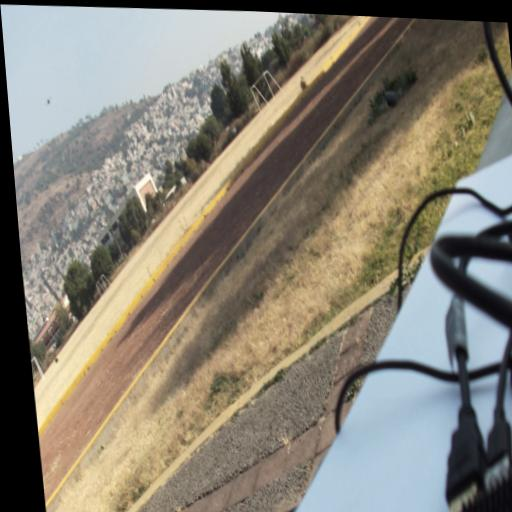drones: (44, 94, 54, 108)
